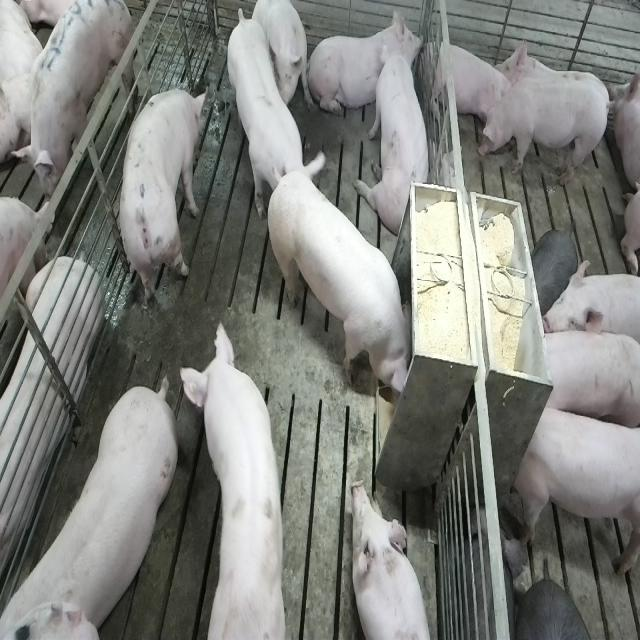Feeding: (271, 157, 422, 404)
Sitting: (362, 51, 434, 239), (253, 1, 308, 117)
Standing: (6, 374, 182, 636), (187, 314, 290, 635), (15, 0, 133, 202), (512, 399, 638, 578), (228, 10, 331, 224), (117, 86, 205, 315), (478, 80, 612, 190), (538, 328, 638, 432), (539, 256, 640, 355)
Sternal_lying: (0, 214, 100, 586), (350, 481, 432, 640), (309, 10, 422, 122), (428, 34, 508, 132)
